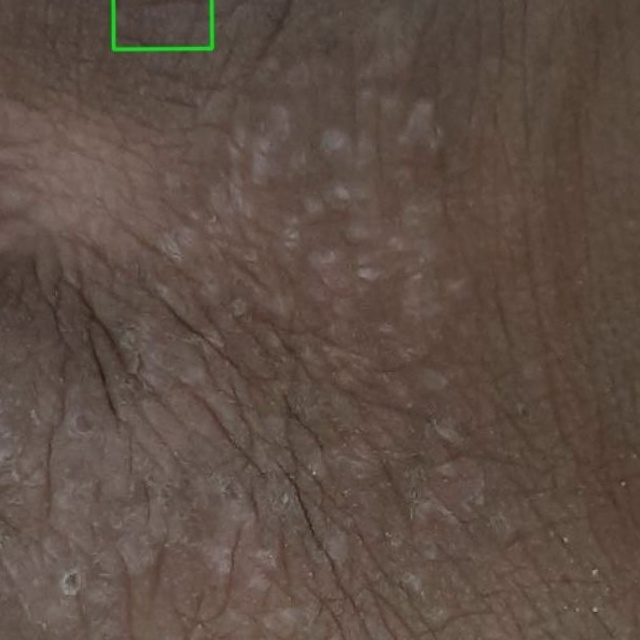Eczema: (113, 0, 212, 49)
